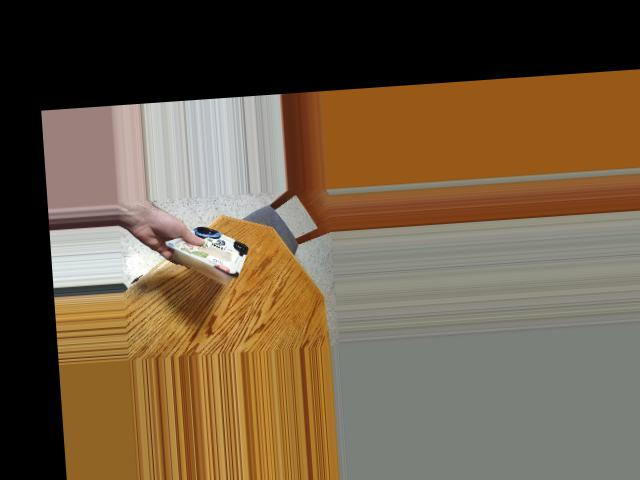cheese: (177, 213, 247, 294)
